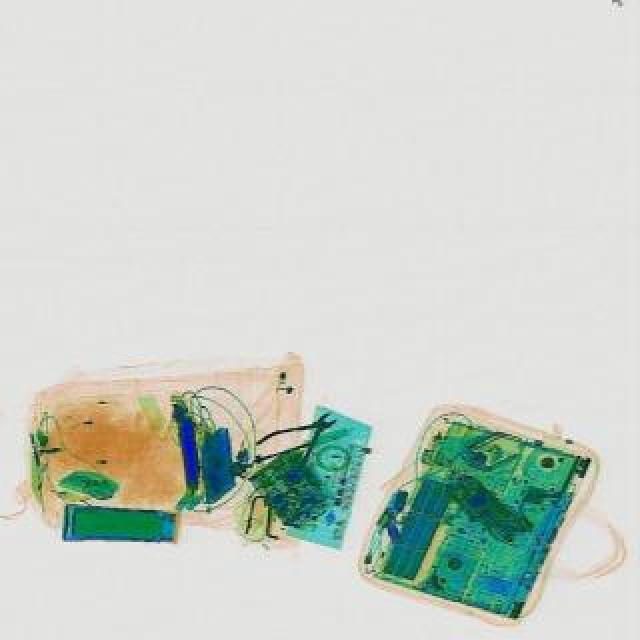wrench: (250, 398, 350, 482)
